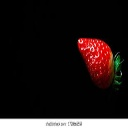strawberry: (75, 34, 122, 94)
